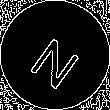N_NE: (24, 23, 86, 87)
